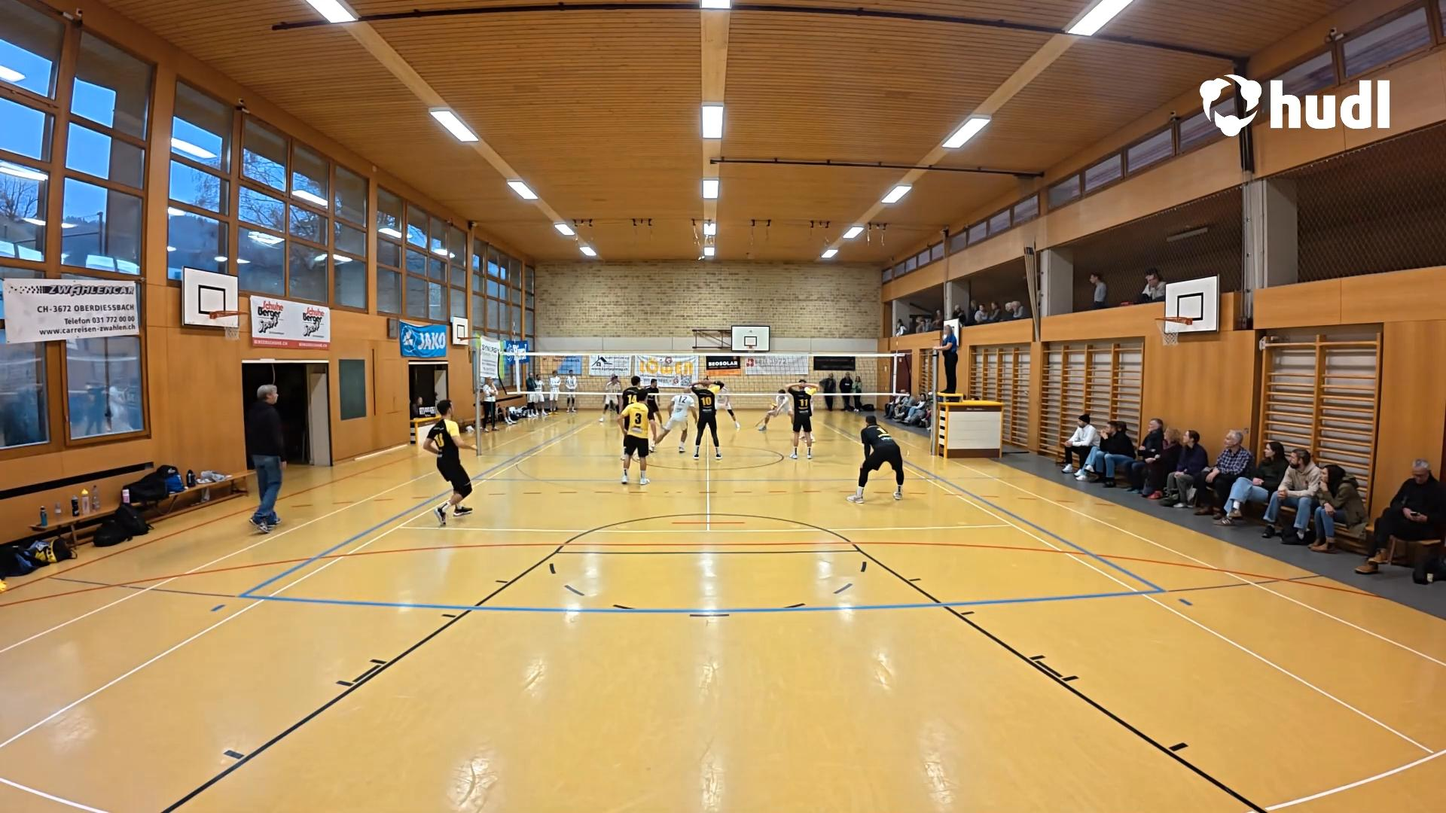Player: (425, 400, 478, 522), (847, 417, 905, 503), (617, 388, 655, 489), (787, 373, 822, 464), (658, 386, 699, 454), (688, 379, 722, 458), (708, 375, 740, 428), (645, 374, 666, 430), (603, 371, 622, 420), (623, 373, 642, 405)
Receive: (757, 388, 794, 433)
ball: (769, 400, 778, 416)
